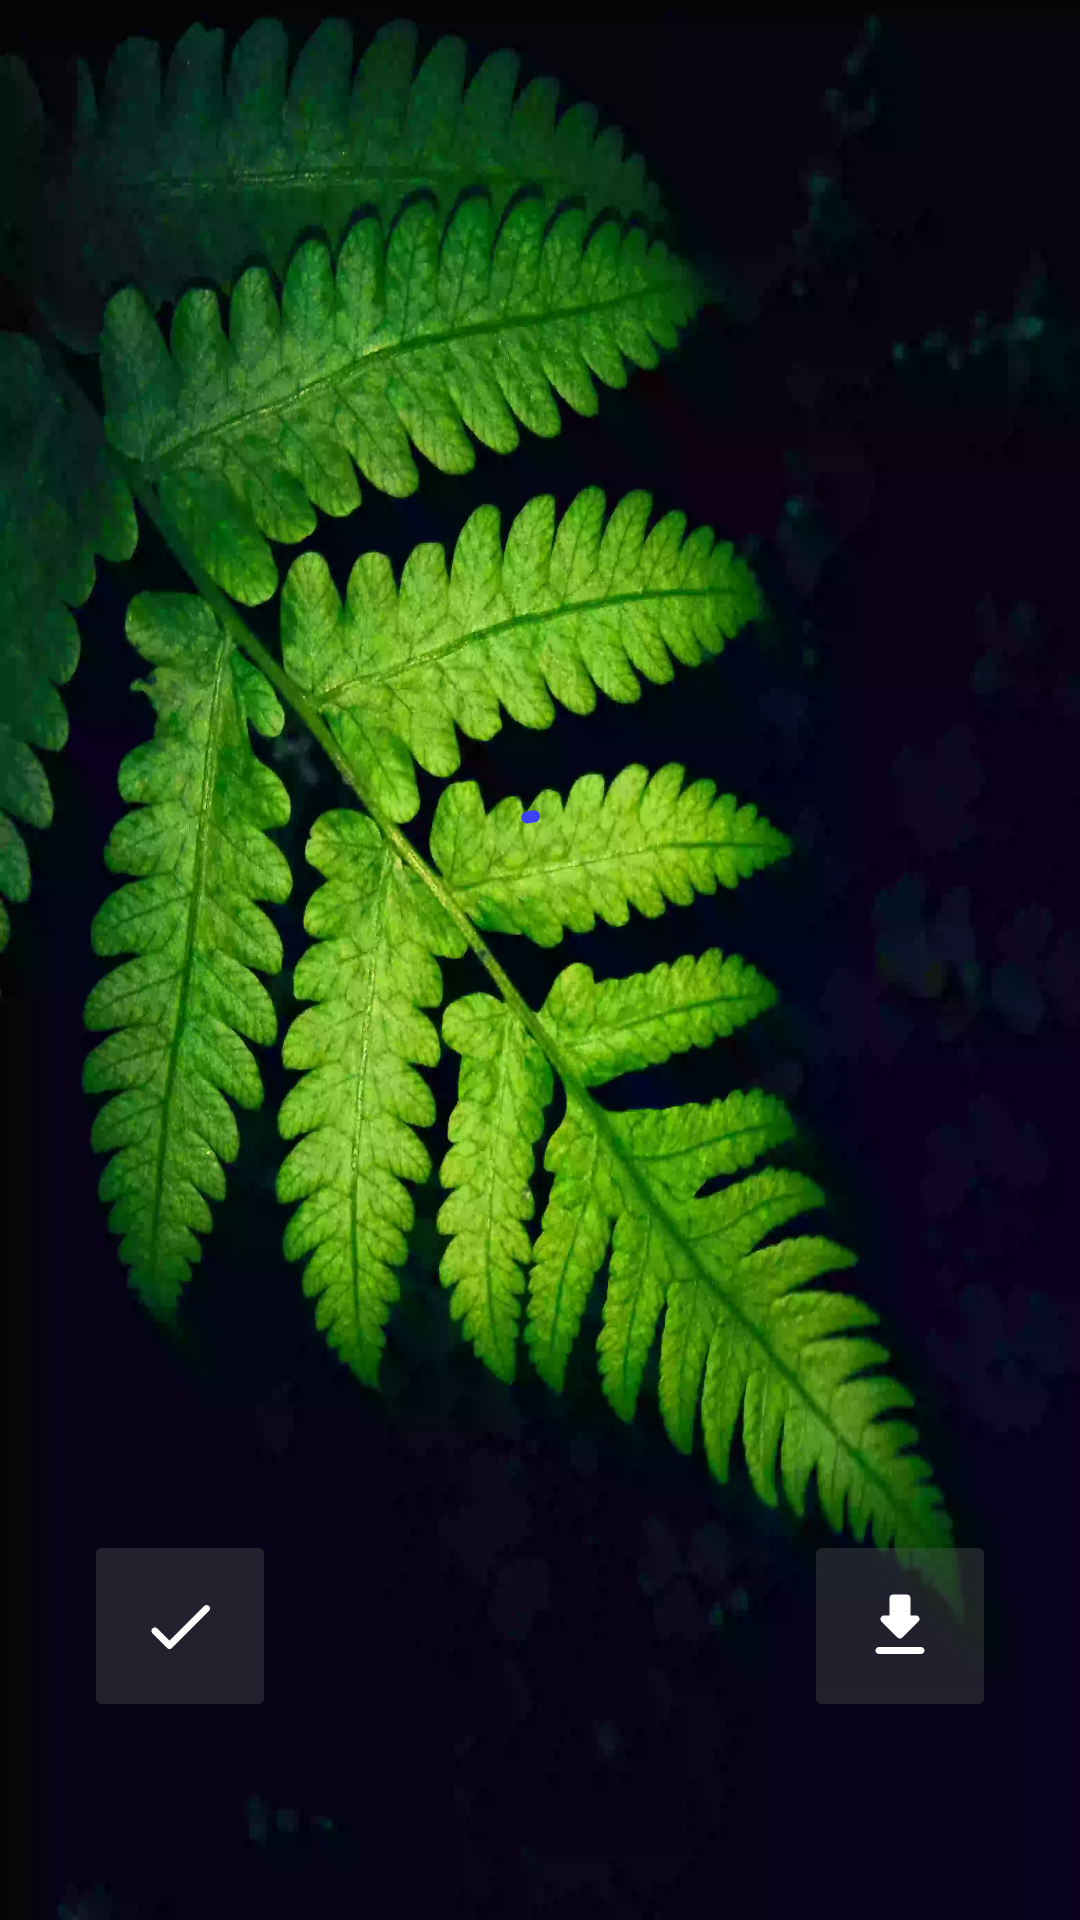

Named icons in this screenshot (1080×1920) and their bounding boxes, [x1, y1, x2, y2]:
download: [816, 1530, 984, 1704]
set: [96, 1548, 264, 1704]
